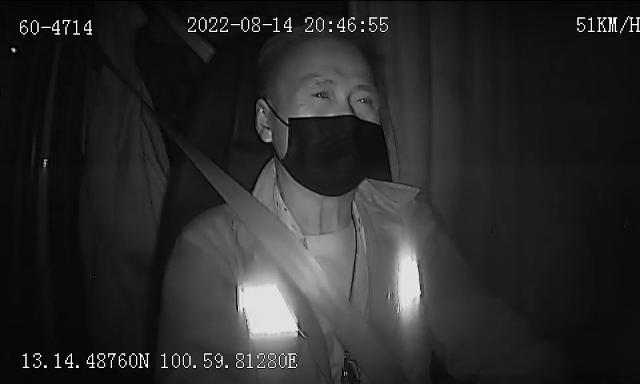SafeDriving: (348, 87, 380, 111), (306, 82, 337, 103)
Seatbelt: (178, 140, 370, 384)
